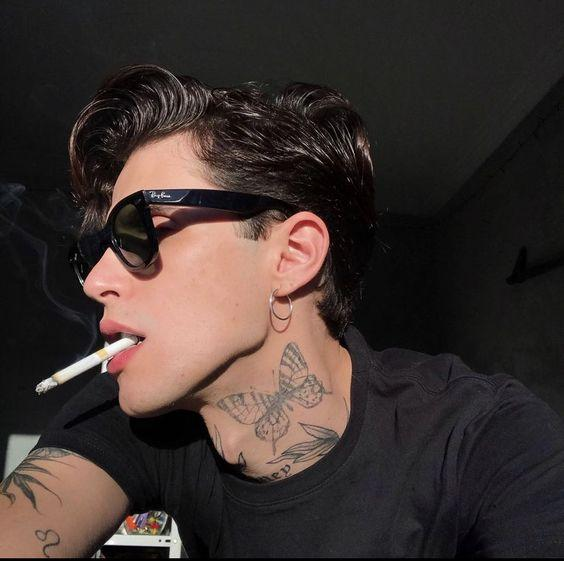cigarette: (35, 335, 139, 393)
